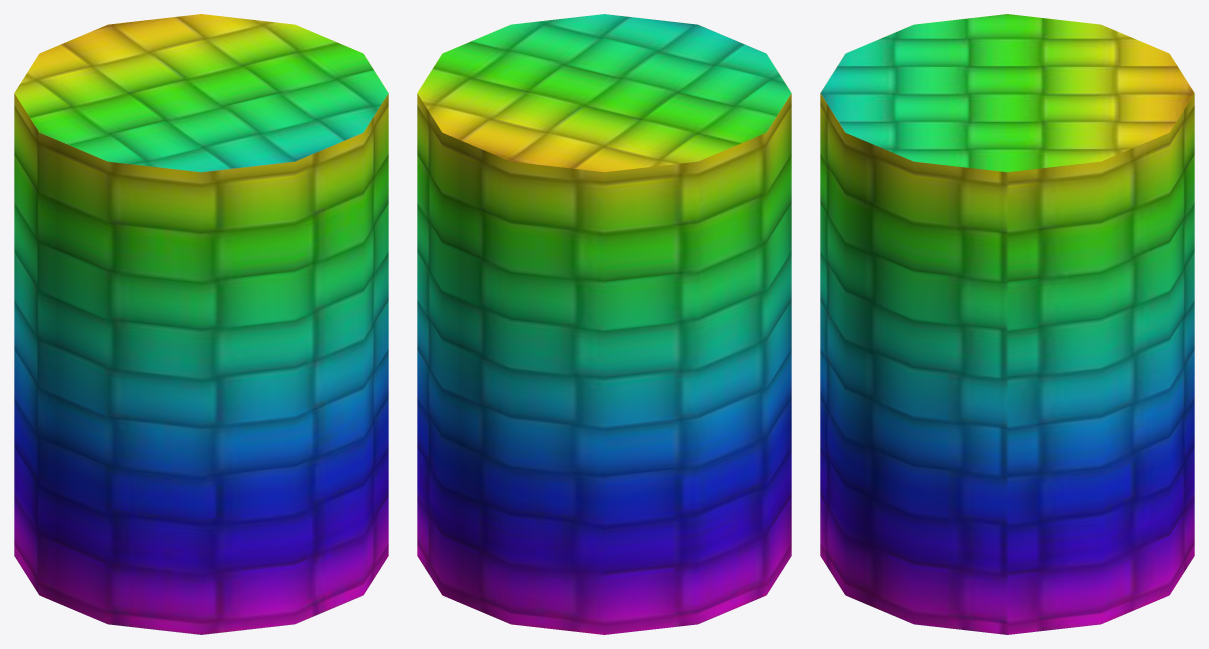
The model's file is PIL0110013.FBX.
3 views of the same model, side by side, from view 1: azimuth 30°, elevation 25°; view 2: azimuth 150°, elevation 25°; view 3: azimuth 270°, elevation 25° (orthographic).
Visible parts, largest first — view 1: smPIL0110013; view 2: smPIL0110013; view 3: smPIL0110013.
Part boxes in pixels (x1=…): smPIL0110013: x1=14, y1=14, x2=388, y2=634; smPIL0110013: x1=417, y1=14, x2=791, y2=634; smPIL0110013: x1=820, y1=14, x2=1194, y2=634.
Bounding box in the file's own units: 0.6275 × 0.8557 × 0.6275.
Materials: 1 (1 with a texture image).
